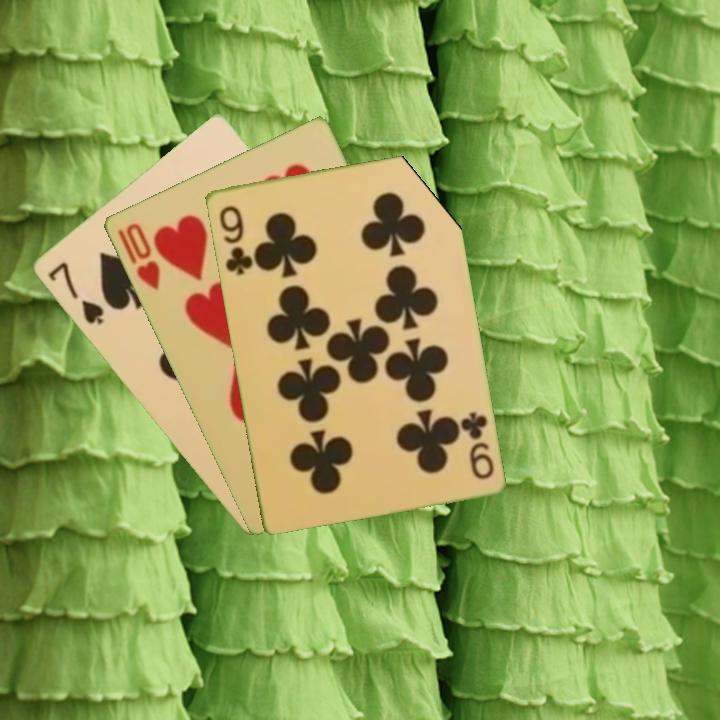10h: (113, 219, 163, 293)
7s: (43, 258, 106, 328)
9c: (456, 407, 497, 482), (215, 202, 255, 278)
